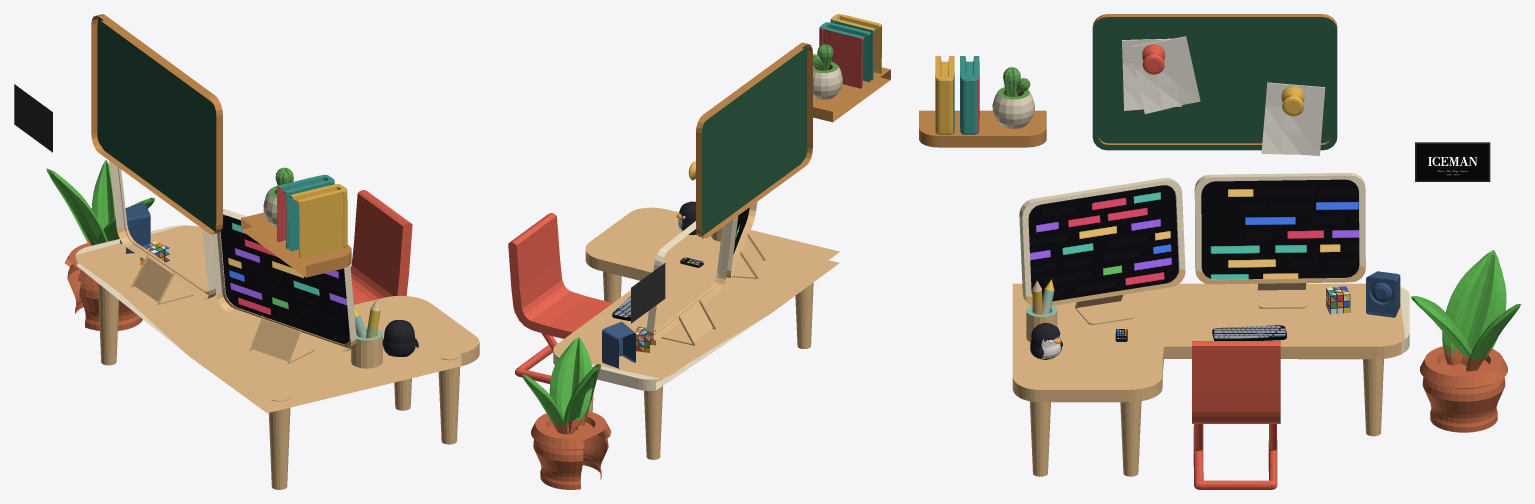
File: room.glb
3 views of the same model, side by side, from view 1: azimuth 30°, elevation 25°; view 2: azimuth 150°, elevation 25°; view 3: azimuth 270°, elevation 25° (orthographic). The views are drawn at different scales.
Parts seen in each view (by area): view 1: room, blackboard, desktop-plane-1, shelf, chair, plant, frame-border, penguin, music; view 2: room, blackboard, plant, chair, shelf, frame-border, music, penguin; view 3: room, blackboard, desktop-plane-0, desktop-plane-1, plant, chair, shelf, frame-photo, music, penguin.
Boxes of the visible parts, x1=… form: room: x1=75, y1=160, x2=479, y2=489; blackboard: x1=91, y1=14, x2=222, y2=234; desktop-plane-1: x1=220, y1=215, x2=349, y2=343; shelf: x1=241, y1=167, x2=351, y2=277; chair: x1=350, y1=190, x2=412, y2=304; plant: x1=46, y1=160, x2=154, y2=330; frame-border: x1=14, y1=84, x2=52, y2=152; penguin: x1=383, y1=320, x2=415, y2=356; music: x1=120, y1=202, x2=150, y2=253; room: x1=553, y1=202, x2=839, y2=459; blackboard: x1=688, y1=42, x2=812, y2=239; plant: x1=522, y1=337, x2=610, y2=489; chair: x1=508, y1=213, x2=612, y2=384; shelf: x1=813, y1=14, x2=890, y2=122; frame-border: x1=631, y1=263, x2=665, y2=323; music: x1=602, y1=321, x2=635, y2=368; penguin: x1=676, y1=201, x2=696, y2=234; room: x1=1012, y1=172, x2=1409, y2=476; blackboard: x1=1092, y1=14, x2=1337, y2=155; desktop-plane-0: x1=1201, y1=179, x2=1359, y2=279; desktop-plane-1: x1=1028, y1=185, x2=1178, y2=301; plant: x1=1411, y1=250, x2=1520, y2=432; chair: x1=1192, y1=341, x2=1280, y2=489; shelf: x1=919, y1=56, x2=1046, y2=147; frame-photo: x1=1416, y1=144, x2=1488, y2=180; music: x1=1366, y1=271, x2=1400, y2=317; penguin: x1=1030, y1=323, x2=1061, y2=359.
Bounding box in the file's own units: 3.79 × 5.48 × 8.18.
37 materials, 4 textured.
